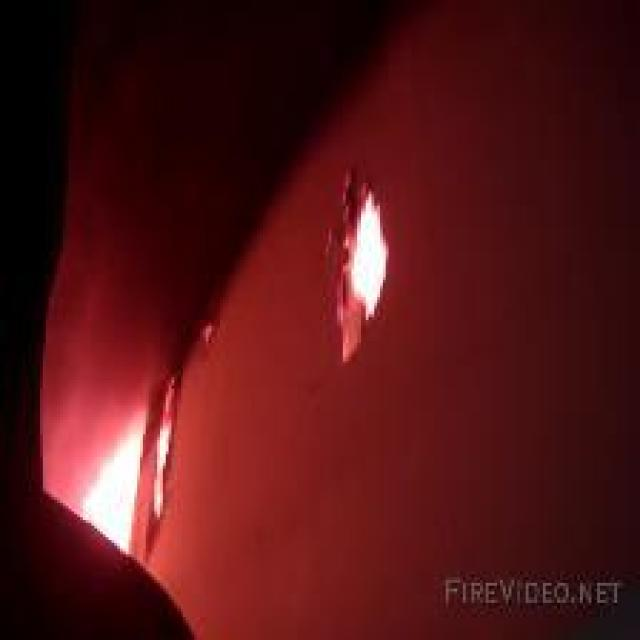fire: (88, 384, 175, 542), (329, 188, 390, 323)
